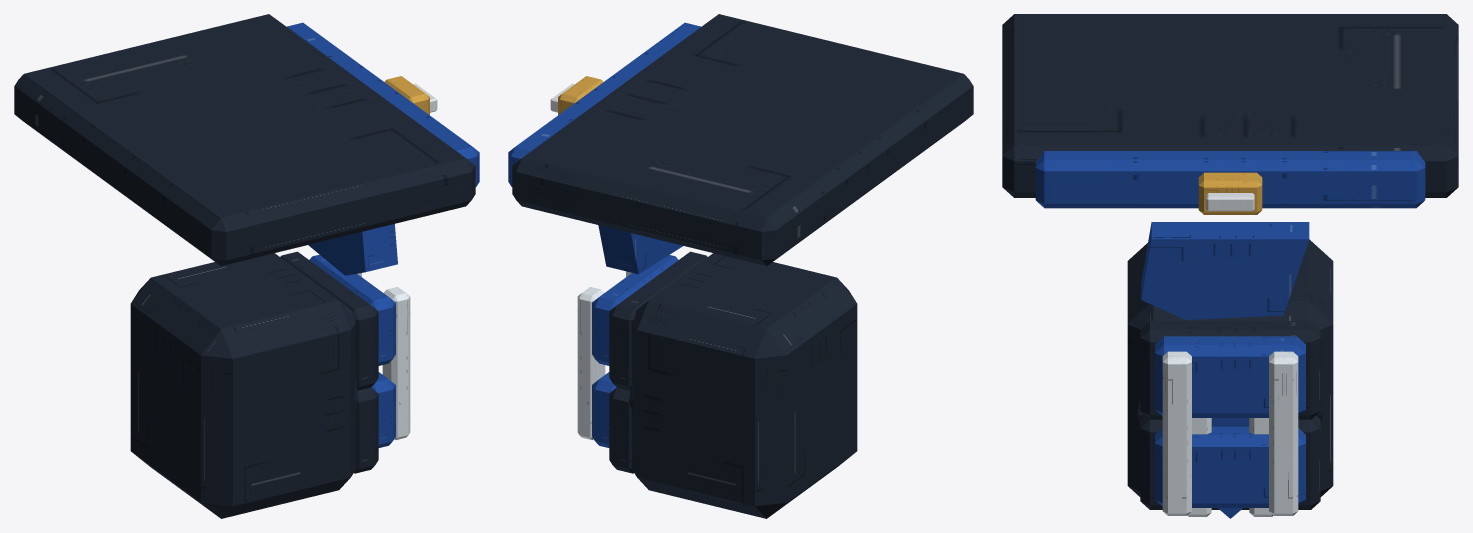
Rendered from leggings.glb.
The picture shows the model from 3 angles, left to right: view 1: azimuth 30°, elevation 25°; view 2: azimuth 150°, elevation 25°; view 3: azimuth 270°, elevation 25°; orthographic projection. The views are drawn at different scales.
Visible parts, largest first — view 1: hips, leg_L, shin_L, leg_R; view 2: hips, leg_L, shin_L; view 3: hips, leg_L, shin_L, leg_R, shin_R.
Part boxes in pixels (bbox=[...]): hips: bbox=[14, 14, 479, 265]; leg_L: bbox=[130, 251, 395, 518]; shin_L: bbox=[308, 224, 397, 411]; leg_R: bbox=[382, 287, 410, 439]; hips: bbox=[508, 14, 973, 265]; leg_L: bbox=[577, 251, 857, 518]; shin_L: bbox=[598, 225, 682, 411]; hips: bbox=[1002, 14, 1458, 214]; leg_L: bbox=[1127, 239, 1333, 515]; shin_L: bbox=[1138, 222, 1322, 518]; leg_R: bbox=[1162, 351, 1191, 515]; shin_R: bbox=[1187, 418, 1211, 516].
Size of the model in its own units: 0.232 by 0.256 by 0.266.
Materials: 5 (5 with a texture image).
